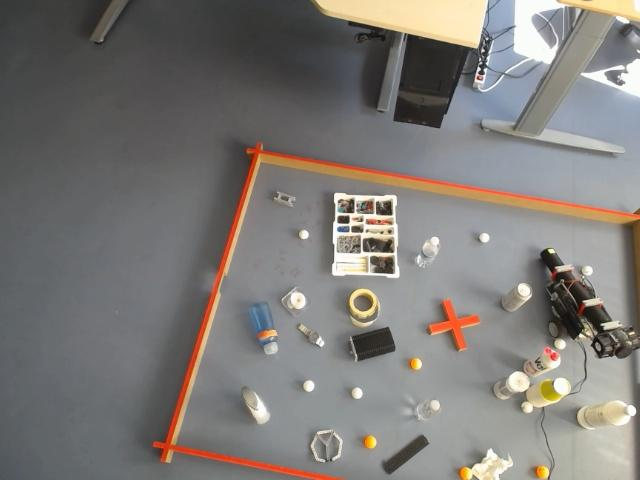orange: (407, 355, 425, 374), (536, 465, 550, 479), (364, 435, 377, 449), (460, 468, 474, 480)
robot: (542, 248, 640, 358)
robot-front: (541, 248, 562, 270)
white: (351, 386, 365, 401), (301, 379, 316, 393), (581, 263, 596, 277), (478, 231, 492, 244), (520, 400, 532, 414), (298, 228, 310, 241), (556, 338, 566, 349)
